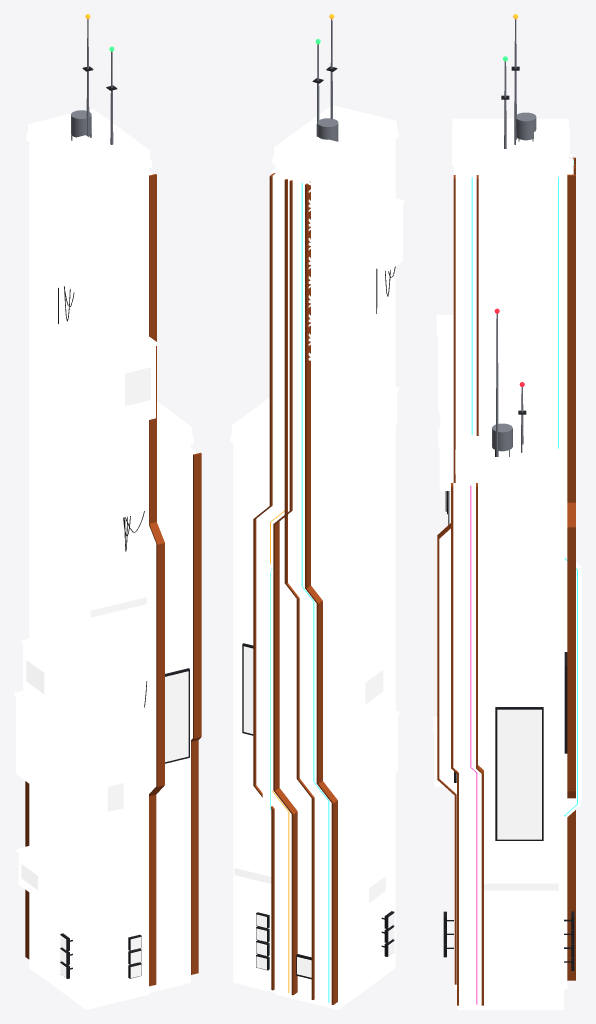
Rendered from k_tower_b.glb.
3 renders of one model, left to right at view 1: azimuth 30°, elevation 25°; view 2: azimuth 150°, elevation 25°; view 3: azimuth 270°, elevation 25°, orthographic.
Parts seen in each view (by area): view 1: kit_dark, kit_mid, steel_orange, kit_grey, screen_atlas, metal_dark, metal_light; view 2: kit_dark, kit_grey, steel_orange, kit_mid, screen_atlas, neon_cyan, metal_dark, metal_light, neon_amber; view 3: kit_dark, kit_grey, steel_orange, screen_atlas, kit_mid, metal_dark, metal_light, neon_cyan, neon_magenta.
Part boxes in pixels (x1,y1,x2,y2): kit_dark: [29, 120, 190, 1009]; kit_mid: [16, 114, 170, 901]; steel_orange: [25, 174, 201, 986]; kit_grey: [14, 108, 197, 869]; screen_atlas: [21, 367, 188, 977]; metal_dark: [58, 66, 189, 978]; metal_light: [71, 19, 113, 144]; kit_dark: [233, 116, 395, 1009]; kit_grey: [230, 105, 404, 1003]; steel_orange: [253, 173, 337, 1004]; kit_mid: [265, 122, 402, 914]; screen_atlas: [234, 646, 394, 977]; neon_cyan: [270, 168, 329, 1002]; metal_dark: [242, 66, 395, 979]; metal_light: [316, 19, 338, 141]; neon_amber: [270, 14, 334, 992]; kit_dark: [454, 129, 567, 1009]; kit_grey: [433, 118, 581, 1004]; steel_orange: [437, 157, 575, 1005]; screen_atlas: [484, 709, 558, 890]; kit_mid: [434, 122, 557, 786]; metal_dark: [443, 66, 574, 970]; metal_light: [492, 19, 536, 456]; neon_cyan: [456, 160, 577, 816]; neon_magenta: [470, 485, 477, 1004].
Size of the model in its own units: 17.63 by 121 by 17.09.
